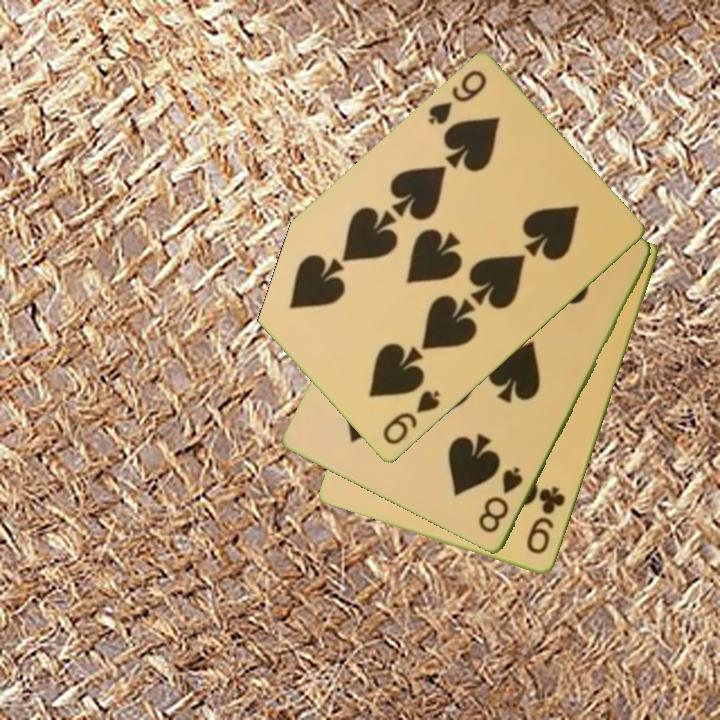8s: (475, 463, 526, 537)
9c: (523, 483, 569, 558)
9s: (424, 67, 490, 128), (379, 387, 443, 449)
